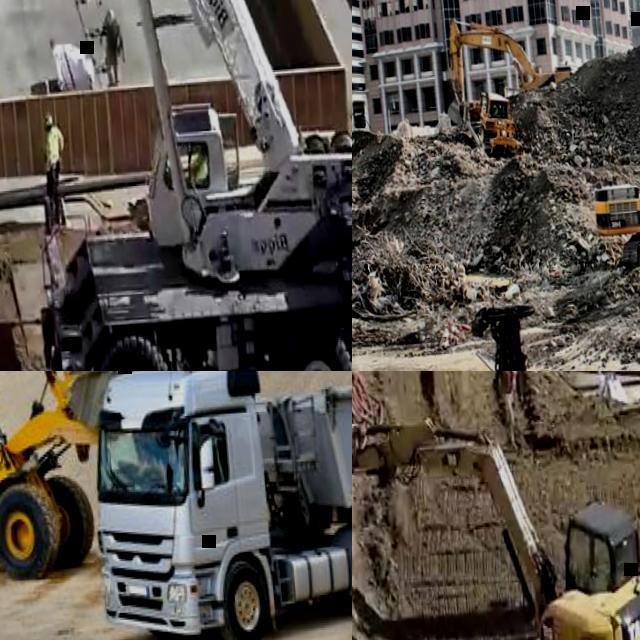helmet: (105, 7, 115, 24), (42, 112, 52, 126)
vest: (45, 132, 60, 160), (192, 158, 207, 182), (492, 108, 499, 116)
